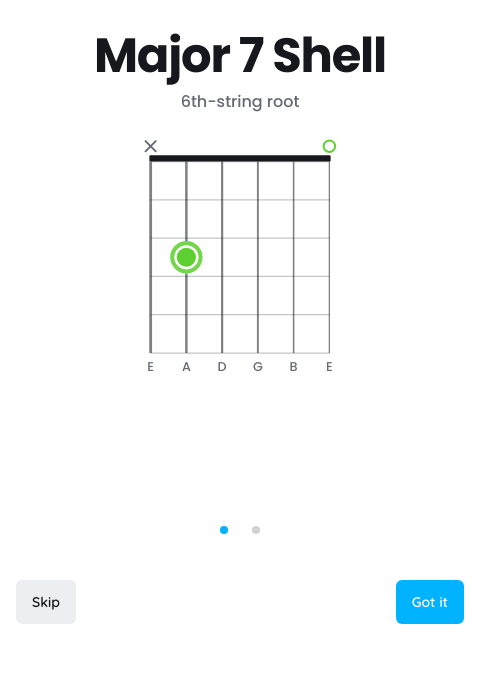
Scenario: LessonPage › shows a shape’s qualifiers from structured data, then its subtitle
(page scrolled)
Expected: the heading "Major 7 Shell" is shown, [94,28,386,84]
Expected: the text "6th-string root" is shown, [181,88,299,116]
Click the button "Got it": [430, 602] box [396,580,464,624]
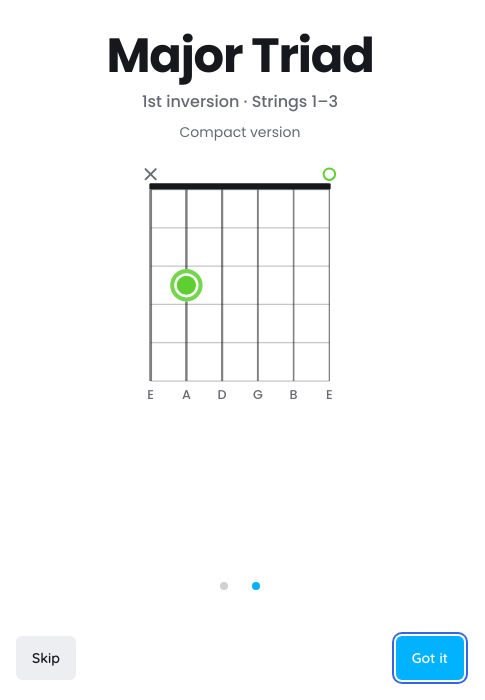
Result: the heading "Major Triad" is shown at [106,28,374,84]
Result: the text "1st inversion · Strings 1–3" is shown at [142,88,338,116]
